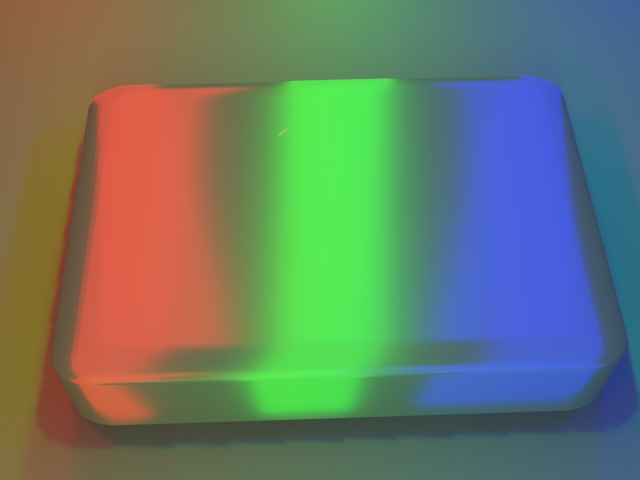scratch: (238, 96, 319, 139)
